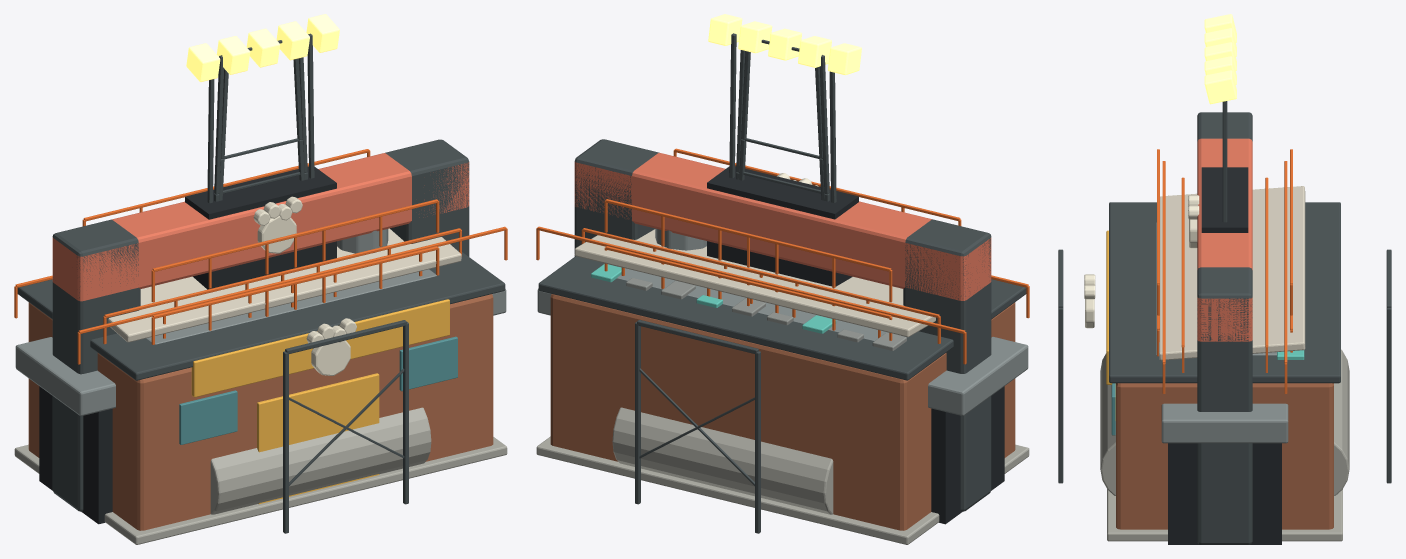
Rendered from kaki-trials-infrastructure-kit-v1.glb.
3 views of the same model, side by side, from view 1: azimuth 30°, elevation 25°; view 2: azimuth 150°, elevation 25°; view 3: azimuth 270°, elevation 25° (orthographic). The views are drawn at different scales.
Parts seen in each view (by area): view 1: Shell, Header.003, KR_TRIALS_CHAMPIONSHIP_ARCH_LOD0_KR_MAT_DARK_STRUCTURE, KR_TRIALS_QUARRY_SHED_LOD0_KR_MAT_KAKI_EVENT_AMBER, Roof, KR_TRIALS_CULVERT_PIPE_LOD0_KR_MAT_READABLE_CONCRETE, Canopy, KR_TRIALS_LIGHT_TOWER_COL_PROXY, Foundation, KR_TRIALS_QUARRY_SHED_LOD0_KR_MAT_TEST_LAB_GLASS, KR_TRIALS_LIGHT_TOWER_LOD0_KR_MAT_WARM_LAMP, KR_TRIALS_BRIDGE_COL_PROXY (+15 smaller); view 2: Shell, Header.003, KR_TRIALS_CHAMPIONSHIP_ARCH_LOD0_KR_MAT_DARK_STRUCTURE, Roof, KR_TRIALS_CULVERT_PIPE_LOD0_KR_MAT_READABLE_CONCRETE, Canopy, Foundation, KR_TRIALS_LIGHT_TOWER_COL_PROXY, KR_TRIALS_BRIDGE_COL_PROXY, Deck.009, KR_TRIALS_LIGHT_TOWER_LOD0_KR_MAT_WARM_LAMP, KR_TRIALS_SCAFFOLD_BAY_LOD0_KR_MAT_SAFETY_ORANGE (+12 smaller); view 3: Roof, Shell, KR_TRIALS_CHAMPIONSHIP_ARCH_LOD0_KR_MAT_DARK_STRUCTURE, Canopy, Header.003, KR_TRIALS_BRIDGE_COL_PROXY, Deck.009, KR_TRIALS_CULVERT_PIPE_LOD0_KR_MAT_READABLE_CONCRETE, KR_TRIALS_LIGHT_TOWER_COL_PROXY, KR_TRIALS_LIGHT_TOWER_LOD0_KR_MAT_WARM_LAMP, Foundation, KR_TRIALS_VIEWING_STAND_LOD2_KR_MAT_DARK_STRUCTURE (+8 smaller).
Part boxes in pixels (left/top/right/bottom): Shell: left=28, top=294, right=493, bottom=530; Header.003: left=52, top=153, right=469, bottom=301; KR_TRIALS_CHAMPIONSHIP_ARCH_LOD0_KR_MAT_DARK_STRUCTURE: left=52, top=139, right=469, bottom=511; KR_TRIALS_QUARRY_SHED_LOD0_KR_MAT_KAKI_EVENT_AMBER: left=191, top=299, right=449, bottom=504; Roof: left=17, top=250, right=505, bottom=380; KR_TRIALS_CULVERT_PIPE_LOD0_KR_MAT_READABLE_CONCRETE: left=210, top=407, right=431, bottom=514; Canopy: left=108, top=228, right=461, bottom=342; KR_TRIALS_LIGHT_TOWER_COL_PROXY: left=185, top=166, right=336, bottom=289; Foundation: left=14, top=437, right=507, bottom=544; KR_TRIALS_QUARRY_SHED_LOD0_KR_MAT_TEST_LAB_GLASS: left=179, top=336, right=457, bottom=444; KR_TRIALS_LIGHT_TOWER_LOD0_KR_MAT_WARM_LAMP: left=186, top=14, right=339, bottom=81; KR_TRIALS_BRIDGE_COL_PROXY: left=39, top=386, right=112, bottom=524; Shell: left=550, top=294, right=1015, bottom=530; Header.003: left=574, top=153, right=991, bottom=300; KR_TRIALS_CHAMPIONSHIP_ARCH_LOD0_KR_MAT_DARK_STRUCTURE: left=574, top=139, right=991, bottom=511; Roof: left=538, top=256, right=1026, bottom=380; KR_TRIALS_CULVERT_PIPE_LOD0_KR_MAT_READABLE_CONCRETE: left=612, top=407, right=833, bottom=514; Canopy: left=574, top=229, right=935, bottom=336; Foundation: left=536, top=436, right=1029, bottom=544; KR_TRIALS_LIGHT_TOWER_COL_PROXY: left=707, top=166, right=858, bottom=286; KR_TRIALS_BRIDGE_COL_PROXY: left=931, top=386, right=1004, bottom=524; Deck.009: left=537, top=288, right=1028, bottom=415; KR_TRIALS_LIGHT_TOWER_LOD0_KR_MAT_WARM_LAMP: left=708, top=14, right=861, bottom=75; KR_TRIALS_SCAFFOLD_BAY_LOD0_KR_MAT_SAFETY_ORANGE: left=604, top=148, right=961, bottom=302; Roof: left=1109, top=202, right=1340, bottom=383; Shell: left=1116, top=383, right=1333, bottom=529; KR_TRIALS_CHAMPIONSHIP_ARCH_LOD0_KR_MAT_DARK_STRUCTURE: left=1197, top=112, right=1252, bottom=544; Canopy: left=1159, top=186, right=1305, bottom=360; Header.003: left=1197, top=138, right=1252, bottom=341; KR_TRIALS_BRIDGE_COL_PROXY: left=1168, top=443, right=1281, bottom=544; Deck.009: left=1161, top=403, right=1288, bottom=443; KR_TRIALS_CULVERT_PIPE_LOD0_KR_MAT_READABLE_CONCRETE: left=1100, top=349, right=1349, bottom=495; KR_TRIALS_LIGHT_TOWER_COL_PROXY: left=1201, top=167, right=1248, bottom=232; KR_TRIALS_LIGHT_TOWER_LOD0_KR_MAT_WARM_LAMP: left=1204, top=14, right=1236, bottom=104; Foundation: left=1107, top=489, right=1342, bottom=541; KR_TRIALS_VIEWING_STAND_LOD2_KR_MAT_DARK_STRUCTURE: left=1058, top=250, right=1391, bottom=483.
Bounding box in the file's own units: 12.07 × 11.37 × 8.4.
